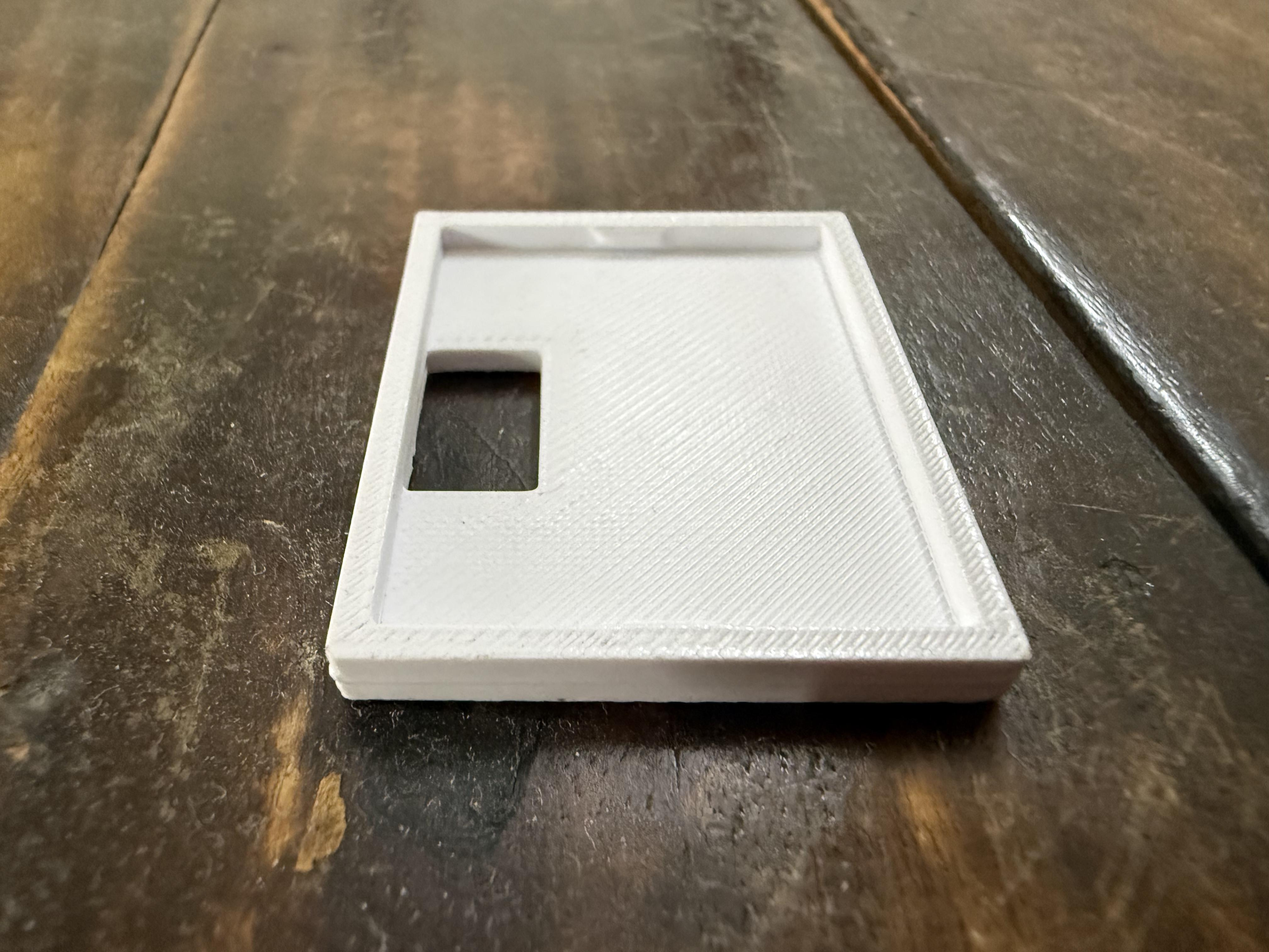enclosure: (324, 209, 1034, 706)
